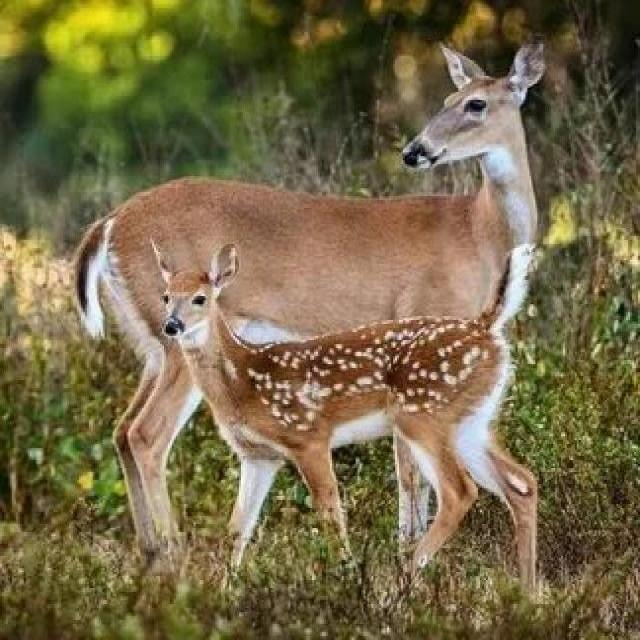deer: (128, 83, 640, 458), (163, 305, 640, 619)
